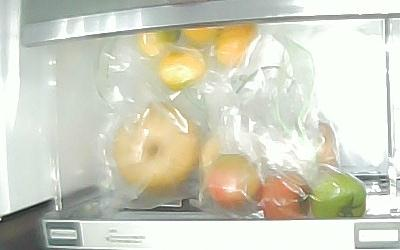pear_vinyl: (112, 101, 201, 192)
tangerine_vinyl: (158, 47, 206, 90), (215, 21, 256, 64), (136, 29, 180, 57)
tomato_vinyl: (206, 155, 262, 211), (311, 171, 366, 218), (263, 171, 312, 220)
